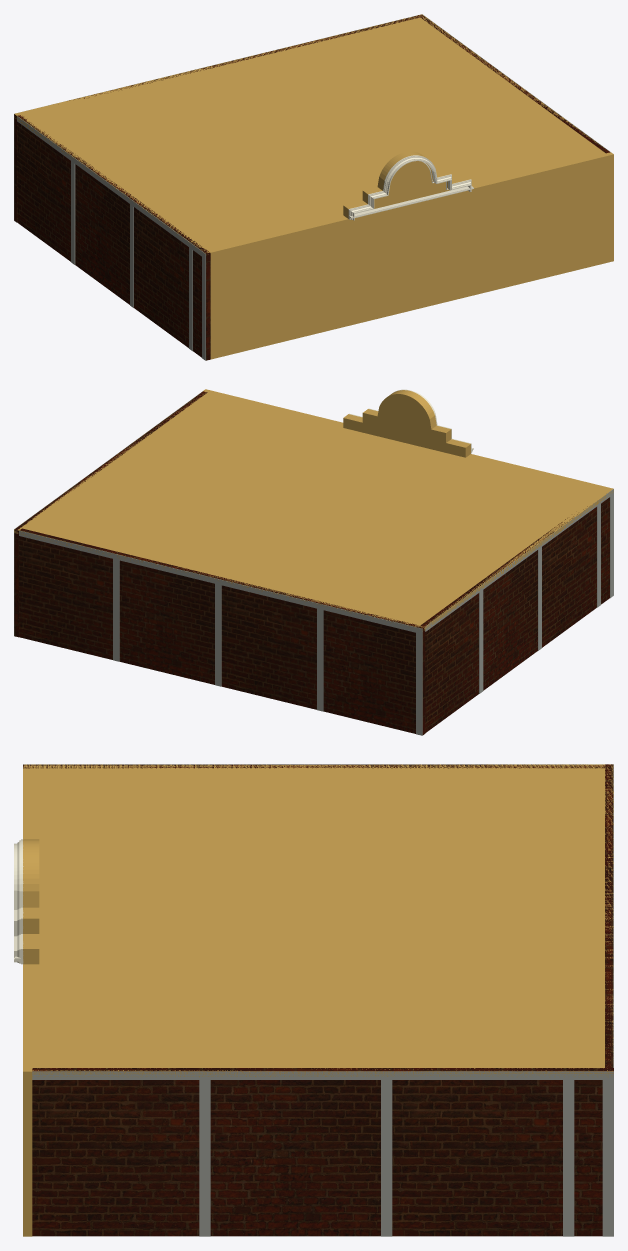
Rendered from building.glb.
3 views of the same model, one above another, from view 1: azimuth 30°, elevation 25°; view 2: azimuth 150°, elevation 25°; view 3: azimuth 270°, elevation 25° (orthographic). The views are drawn at different scales.
Visible parts, largest first — view 1: roof/house:0/roof_slab#0001, house:0/edge0/z0/house:0/edge0/z0/wall_0_0, house:0/edge3/z0/house:0/edge3/z0/wall_0_0, crown/coronamiento/crown_body#0001, house:0/edge2/z0/house:0/edge2/z0/wall_0_0, house:0/edge3/z0/house:0/edge3/z0/beam_0_0, crown/coronamiento/crown_moulding#0001, house:0/edge1/z0/house:0/edge1/z0/wall_0_0, crown/coronamiento/crown_base_cornice#0001, house:0/edge3/z0/house:0/edge3/z0/column_2_0; view 2: roof/house:0/roof_slab#0001, house:0/edge2/z0/house:0/edge2/z0/wall_0_0, house:0/edge3/z0/house:0/edge3/z0/wall_0_0, crown/coronamiento/crown_body#0001, house:0/edge2/z0/house:0/edge2/z0/beam_0_0, house:0/edge1/z0/house:0/edge1/z0/wall_0_0, house:0/edge3/z0/house:0/edge3/z0/beam_0_0, house:0/edge2/z0/house:0/edge2/z0/column_4_0, house:0/edge2/z0/house:0/edge2/z0/column_2_0, house:0/edge2/z0/house:0/edge2/z0/column_1_0, house:0/edge2/z0/house:0/edge2/z0/column_3_0, house:0/edge0/z0/house:0/edge0/z0/wall_0_0 (+1 smaller); view 3: roof/house:0/roof_slab#0001, house:0/edge1/z0/house:0/edge1/z0/wall_0_0, house:0/edge1/z0/house:0/edge1/z0/beam_0_0, house:0/edge0/z0/house:0/edge0/z0/wall_0_0, house:0/edge2/z0/house:0/edge2/z0/wall_0_0, house:0/edge3/z0/house:0/edge3/z0/wall_0_0, crown/coronamiento/crown_body#0001, house:0/edge1/z0/house:0/edge1/z0/column_1_0, house:0/edge1/z0/house:0/edge1/z0/column_2_0, house:0/edge1/z0/house:0/edge1/z0/column_3_0, house:0/edge1/z0/house:0/edge1/z0/column_4_0, crown/coronamiento/crown_moulding#0001.
Part boxes in pixels (left/top/right/bottom): roof/house:0/roof_slab#0001: left=14, top=14, right=613, bottom=254; house:0/edge0/z0/house:0/edge0/z0/wall_0_0: left=208, top=152, right=613, bottom=359; house:0/edge3/z0/house:0/edge3/z0/wall_0_0: left=17, top=115, right=210, bottom=360; crown/coronamiento/crown_body#0001: left=343, top=151, right=469, bottom=217; house:0/edge2/z0/house:0/edge2/z0/wall_0_0: left=14, top=15, right=419, bottom=222; house:0/edge3/z0/house:0/edge3/z0/beam_0_0: left=17, top=116, right=205, bottom=259; crown/coronamiento/crown_moulding#0001: left=348, top=155, right=471, bottom=220; house:0/edge1/z0/house:0/edge1/z0/wall_0_0: left=418, top=14, right=609, bottom=153; crown/coronamiento/crown_base_cornice#0001: left=348, top=186, right=473, bottom=219; house:0/edge3/z0/house:0/edge3/z0/column_2_0: left=71, top=161, right=75, bottom=264; roof/house:0/roof_slab#0001: left=14, top=389, right=613, bottom=630; house:0/edge2/z0/house:0/edge2/z0/wall_0_0: left=19, top=528, right=425, bottom=735; house:0/edge3/z0/house:0/edge3/z0/wall_0_0: left=420, top=497, right=609, bottom=732; crown/coronamiento/crown_body#0001: left=343, top=390, right=470, bottom=457; house:0/edge2/z0/house:0/edge2/z0/beam_0_0: left=19, top=530, right=422, bottom=634; house:0/edge1/z0/house:0/edge1/z0/wall_0_0: left=14, top=391, right=207, bottom=637; house:0/edge3/z0/house:0/edge3/z0/beam_0_0: left=425, top=489, right=613, bottom=631; house:0/edge2/z0/house:0/edge2/z0/column_4_0: left=317, top=608, right=323, bottom=711; house:0/edge2/z0/house:0/edge2/z0/column_2_0: left=113, top=559, right=119, bottom=661; house:0/edge2/z0/house:0/edge2/z0/column_1_0: left=416, top=633, right=422, bottom=735; house:0/edge2/z0/house:0/edge2/z0/column_3_0: left=215, top=584, right=221, bottom=686; house:0/edge0/z0/house:0/edge0/z0/wall_0_0: left=203, top=389, right=539, bottom=471; roof/house:0/roof_slab#0001: left=23, top=764, right=613, bottom=1077; house:0/edge1/z0/house:0/edge1/z0/wall_0_0: left=32, top=1068, right=613, bottom=1236; house:0/edge1/z0/house:0/edge1/z0/beam_0_0: left=32, top=1071, right=613, bottom=1079; house:0/edge0/z0/house:0/edge0/z0/wall_0_0: left=23, top=768, right=32, bottom=1236; house:0/edge2/z0/house:0/edge2/z0/wall_0_0: left=605, top=764, right=613, bottom=1067; house:0/edge3/z0/house:0/edge3/z0/wall_0_0: left=23, top=764, right=604, bottom=768; crown/coronamiento/crown_body#0001: left=25, top=839, right=39, bottom=964; house:0/edge1/z0/house:0/edge1/z0/column_1_0: left=602, top=1080, right=613, bottom=1236; house:0/edge1/z0/house:0/edge1/z0/column_2_0: left=199, top=1080, right=210, bottom=1236; house:0/edge1/z0/house:0/edge1/z0/column_3_0: left=381, top=1080, right=392, bottom=1236; house:0/edge1/z0/house:0/edge1/z0/column_4_0: left=563, top=1080, right=574, bottom=1236; crown/coronamiento/crown_moulding#0001: left=14, top=839, right=23, bottom=963.
Bounding box in the file's own units: 16 × 5.8 × 13.2.
Materials: 4 (1 with a texture image).
